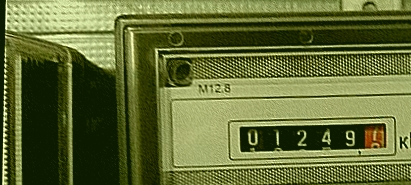0: (247, 128, 261, 148)
1: (272, 128, 283, 148)
2: (296, 129, 310, 149)
4: (321, 128, 333, 147)
7: (369, 124, 382, 143)
9: (344, 129, 358, 150)
screen: (221, 114, 397, 163)
